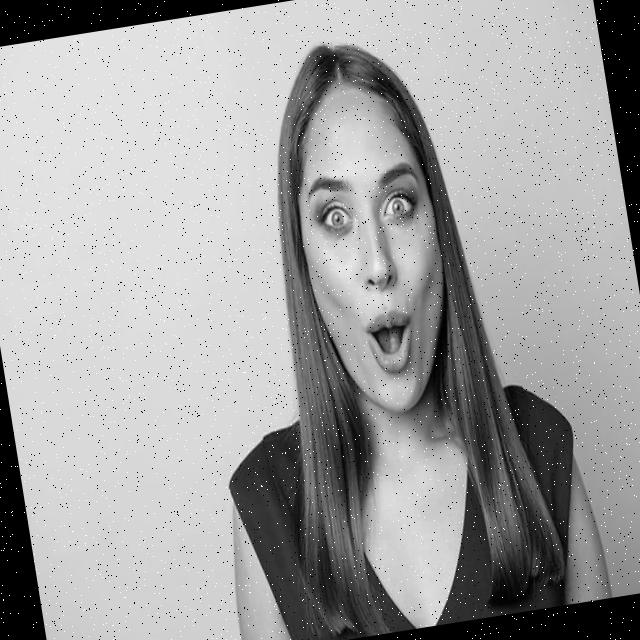Surprised: (280, 78, 465, 424)
